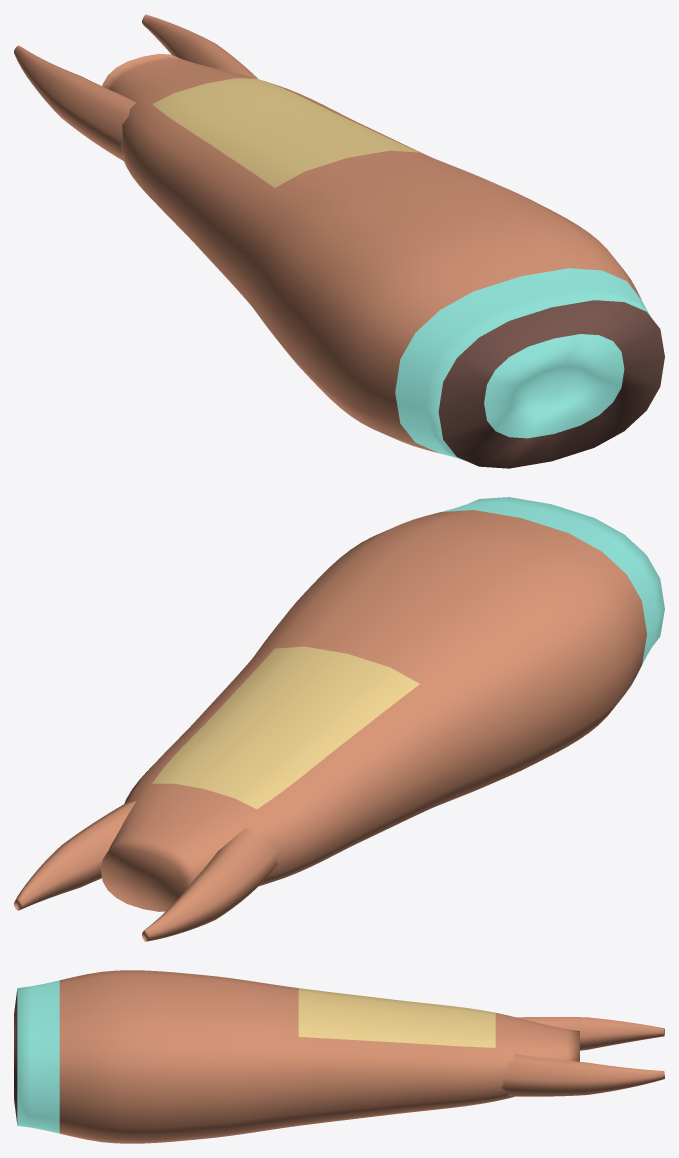
File: vos_dd.glb
The picture shows the model from 3 angles, top to bottom: view 1: azimuth 30°, elevation 25°; view 2: azimuth 150°, elevation 25°; view 3: azimuth 270°, elevation 25°; orthographic projection. The views are drawn at different scales.
Visible parts, largest first — view 1: hull_mesh, limb_0_mesh, limb_0_port_mesh; view 2: hull_mesh, limb_0_mesh, limb_0_port_mesh; view 3: hull_mesh, limb_0_port_mesh, limb_0_mesh.
Boxes of the visible parts, x1,y1,x2,y2 form: hull_mesh: [102, 53, 664, 468]; limb_0_mesh: [14, 45, 136, 160]; limb_0_port_mesh: [142, 14, 257, 78]; hull_mesh: [101, 497, 664, 911]; limb_0_mesh: [142, 827, 277, 941]; limb_0_port_mesh: [14, 801, 136, 910]; hull_mesh: [14, 970, 579, 1143]; limb_0_port_mesh: [502, 1054, 664, 1096]; limb_0_mesh: [516, 1017, 664, 1050].
Bounding box in the file's own units: 31.44 × 20.43 × 90.24.
